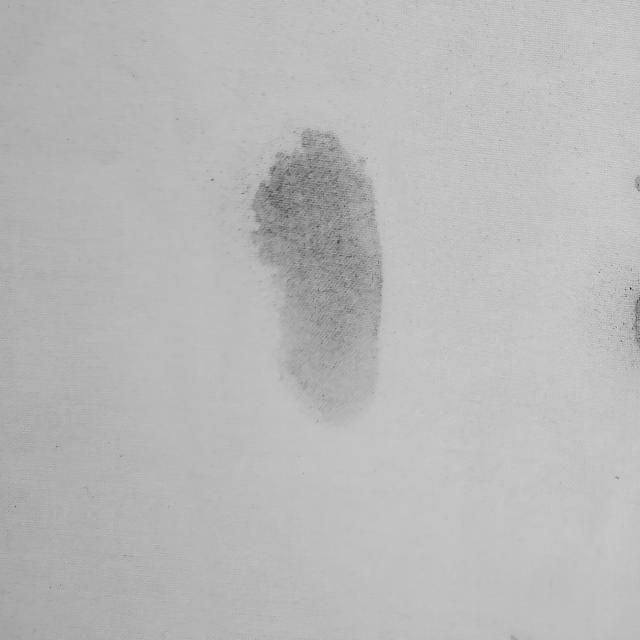Thread_other: (228, 119, 402, 427)
